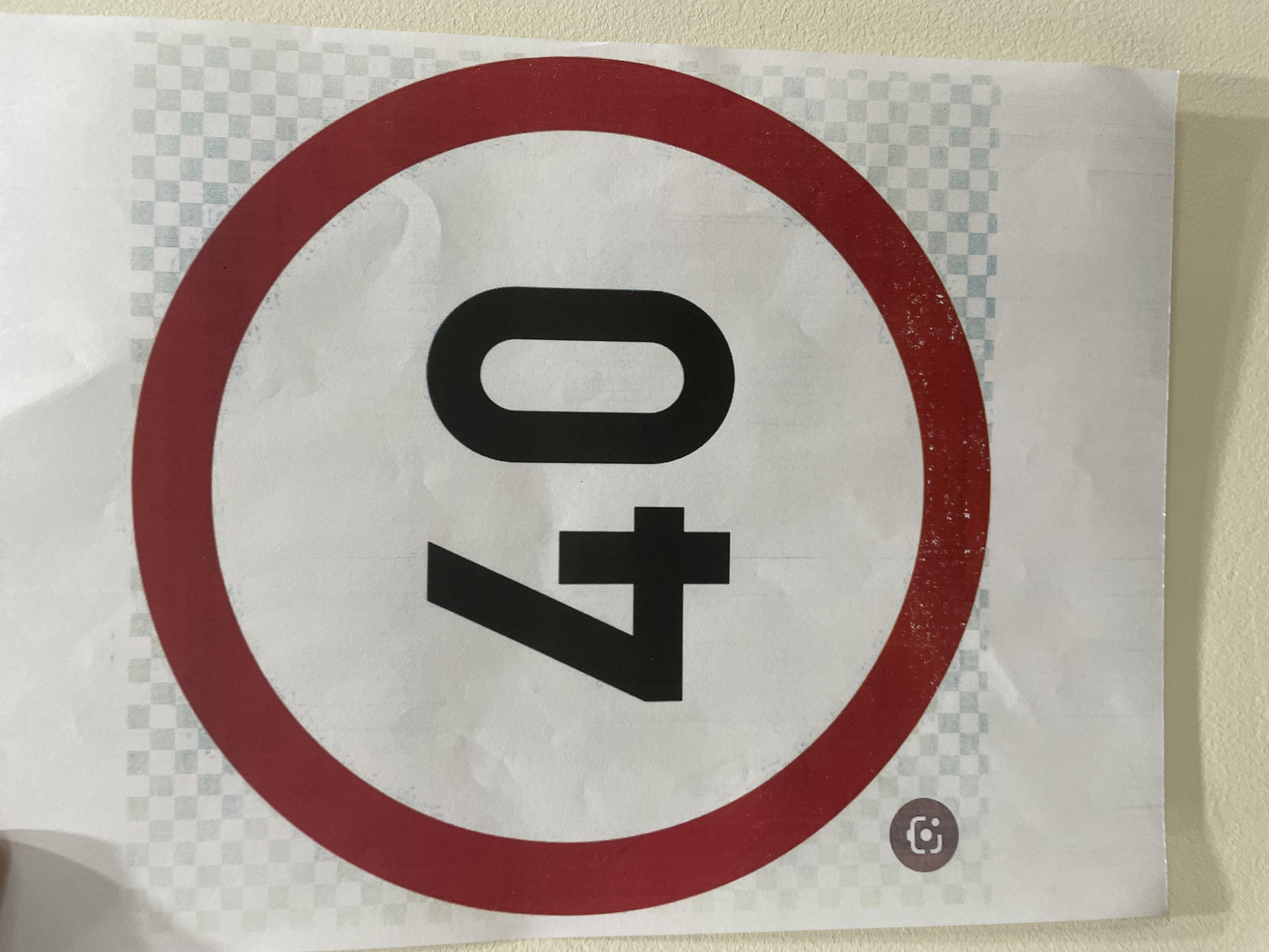40-Speed: (39, 69, 1204, 751)
